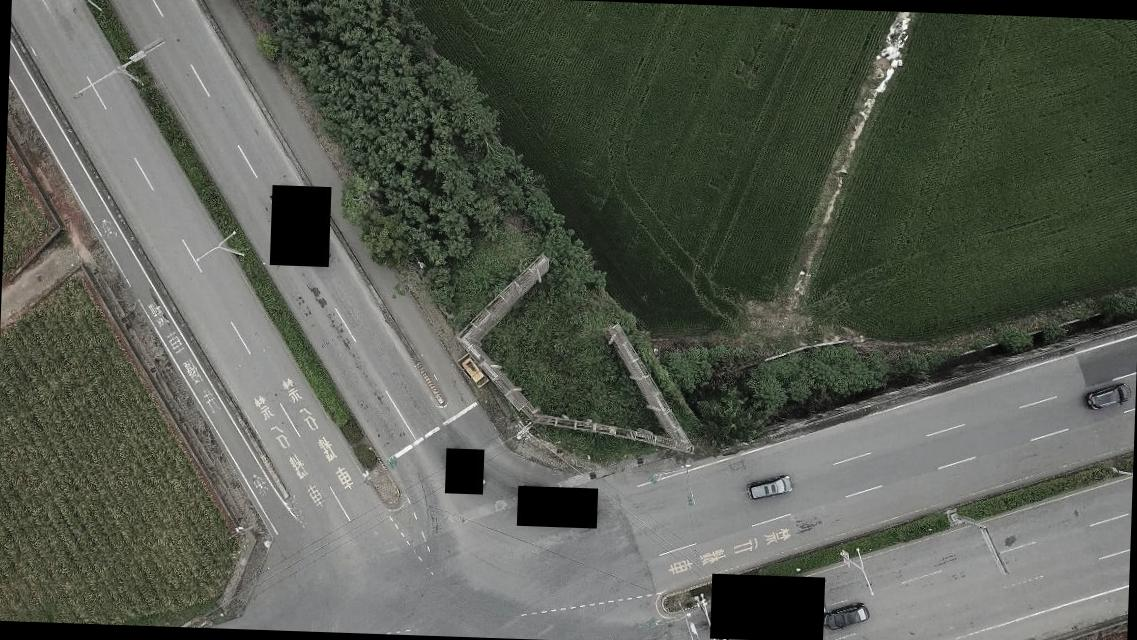vehicle: (745, 468, 793, 502), (822, 601, 871, 631), (1085, 380, 1129, 410), (460, 354, 490, 391)
